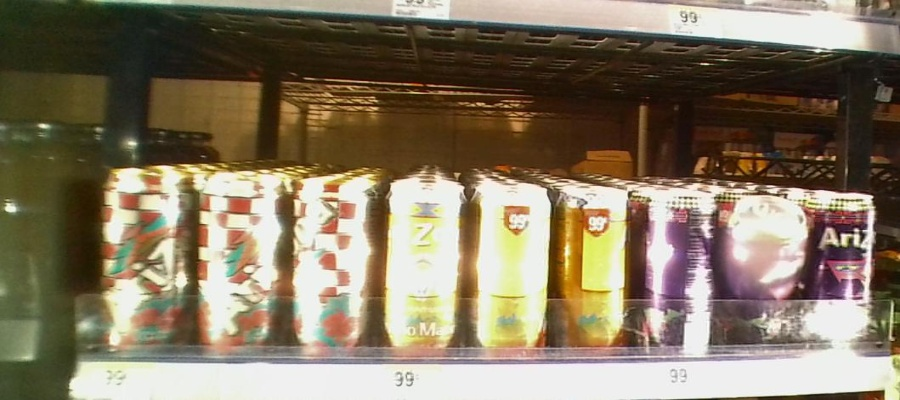bottle: (194, 160, 284, 355), (285, 164, 376, 354), (98, 164, 191, 348), (380, 169, 467, 362), (470, 178, 552, 363), (635, 184, 720, 358), (555, 176, 629, 361), (722, 190, 807, 348), (810, 191, 878, 350)
